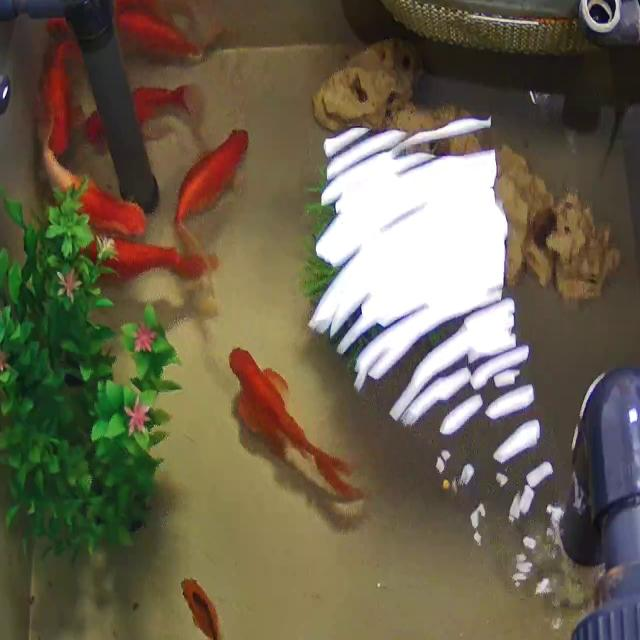fish: (211, 327, 360, 518), (173, 118, 260, 248), (35, 154, 156, 243), (93, 237, 204, 285), (109, 7, 203, 62), (41, 41, 80, 155), (121, 74, 190, 126), (185, 566, 224, 640)
